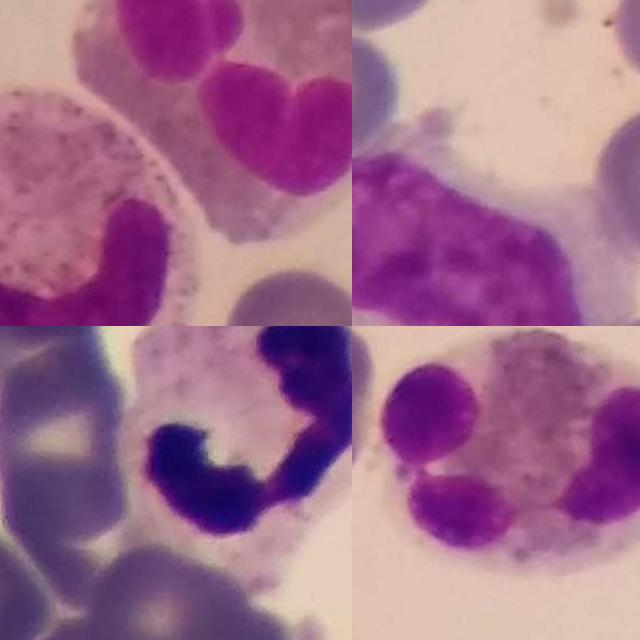Eosinophil: (77, 0, 352, 248), (379, 327, 640, 578)
Monocyte: (352, 135, 640, 326)
Neutrophil: (127, 326, 352, 573), (0, 87, 198, 326)
